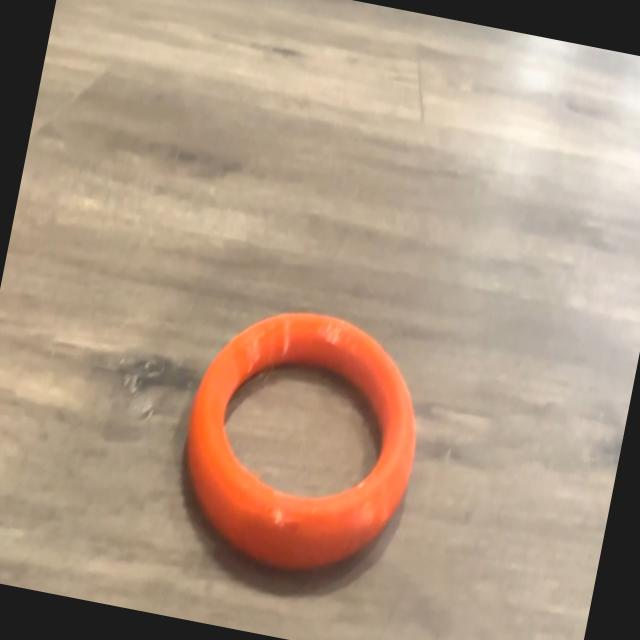note: (168, 291, 438, 589)
